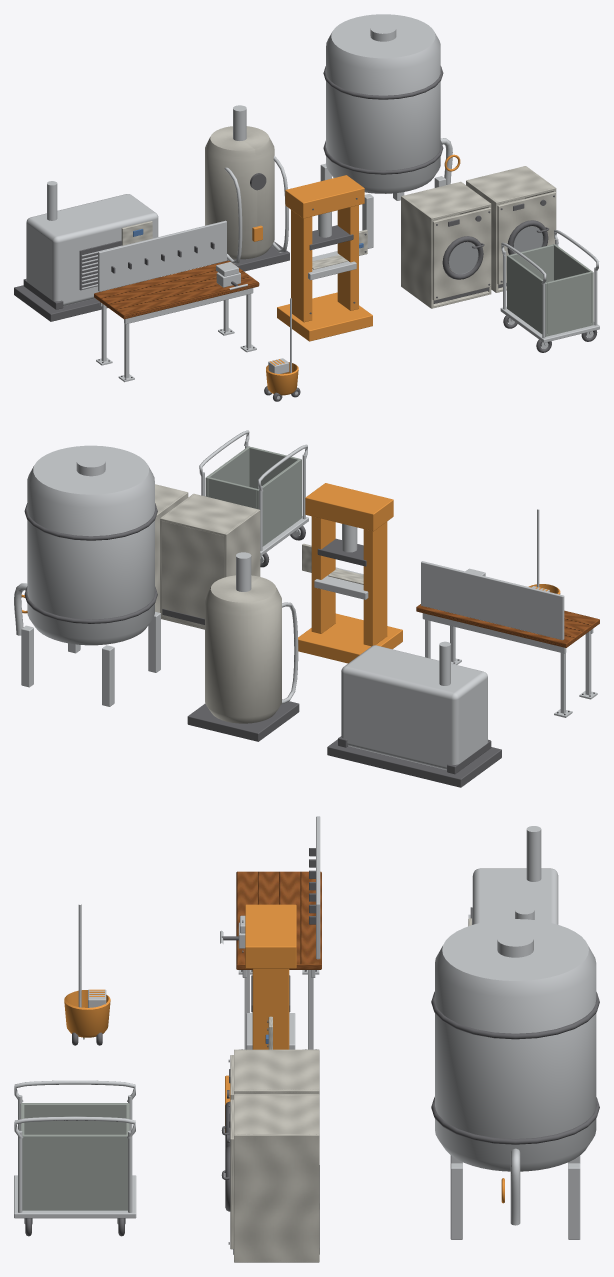
The model's file is prison-complex-builder-workshop-and-utilities-88c32643__25725.glb.
3 renders of one model, top to bottom at view 1: azimuth 30°, elevation 25°; view 2: azimuth 150°, elevation 25°; view 3: azimuth 270°, elevation 25°, orthographic. The views are drawn at different scales.
Parts seen in each view (by area): view 1: 005-water-tank/1, 001-licence-plate-press/0, 002-laundry-machines/0, 003-standby-generator/1, 000-workshop-bench/0, 004-service-boiler/1, 006-laundry-cart/10, 000-workshop-bench/2, 002-laundry-machines/door-1/plasticWhite, 002-laundry-machines/1, 002-laundry-machines/door-2/plasticWhite, 003-standby-generator/0 (+11 smaller); view 2: 005-water-tank/1, 003-standby-generator/1, 001-licence-plate-press/0, 004-service-boiler/1, 002-laundry-machines/0, 000-workshop-bench/0, 006-laundry-cart/10, 005-water-tank/0, 003-standby-generator/0, 000-workshop-bench/2, 004-service-boiler/0, 006-laundry-cart/9 (+6 smaller); view 3: 005-water-tank/1, 002-laundry-machines/0, 006-laundry-cart/10, 001-licence-plate-press/0, 000-workshop-bench/2, 003-standby-generator/1, 006-laundry-cart/9, 005-water-tank/0, 005-water-tank/2, 000-workshop-bench/0, 007-mop-bucket/0, 003-standby-generator/2 (+3 smaller).
Part boxes in pixels (x1,y1,x2,y2): 005-water-tank/1: (326, 14, 440, 193); 001-licence-plate-press/0: (277, 175, 372, 341); 002-laundry-machines/0: (401, 166, 556, 308); 003-standby-generator/1: (26, 194, 158, 305); 000-workshop-bench/0: (96, 220, 256, 382); 004-service-boiler/1: (205, 126, 274, 259); 006-laundry-cart/10: (507, 244, 593, 336); 000-workshop-bench/2: (94, 260, 259, 319); 002-laundry-machines/door-1/plasticWhite: (432, 207, 491, 300); 002-laundry-machines/1: (433, 199, 548, 303); 002-laundry-machines/door-2/plasticWhite: (497, 191, 555, 284); 003-standby-generator/0: (14, 240, 121, 321); 005-water-tank/1: (27, 445, 154, 645); 003-standby-generator/1: (341, 645, 487, 769); 001-licence-plate-press/0: (298, 483, 402, 663); 004-service-boiler/1: (205, 575, 281, 723); 002-laundry-machines/0: (155, 484, 260, 629); 000-workshop-bench/0: (421, 561, 597, 717); 006-laundry-cart/10: (205, 446, 301, 546); 005-water-tank/0: (21, 455, 160, 706); 003-standby-generator/0: (327, 739, 501, 787); 000-workshop-bench/2: (416, 604, 599, 647); 004-service-boiler/0: (187, 699, 299, 741); 006-laundry-cart/9: (199, 430, 308, 556); 005-water-tank/1: (435, 919, 596, 1171); 002-laundry-machines/0: (234, 1049, 319, 1262); 006-laundry-cart/10: (20, 1103, 129, 1210); 001-licence-plate-press/0: (225, 904, 296, 1132); 000-workshop-bench/2: (236, 871, 321, 969); 003-standby-generator/1: (468, 868, 558, 924); 006-laundry-cart/9: (14, 1080, 136, 1218); 005-water-tank/0: (450, 931, 580, 1239); 005-water-tank/2: (431, 991, 599, 1144); 000-workshop-bench/0: (238, 816, 320, 1049); 007-mop-bucket/0: (64, 989, 110, 1037); 003-standby-generator/2: (526, 826, 541, 881).
Size of the model in its own units: 5.73 by 2.47 by 4.79.
Materials: 8 (2 with a texture image).
